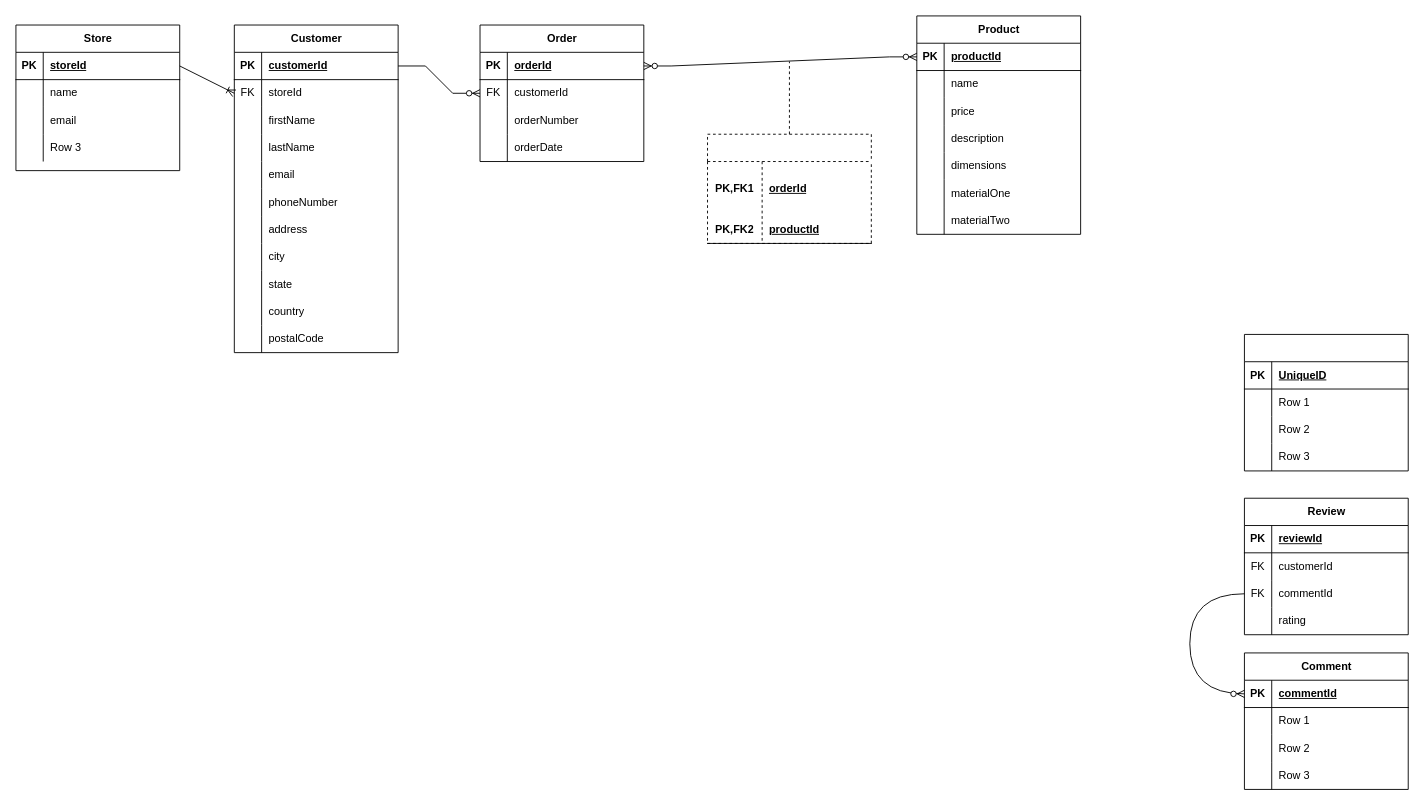
Image size: 1424x805. Some labels were removed from this diagram. Each missing label, with the box of its shape:
Order Count: (1244, 334, 1408, 471)
Order Product: (707, 133, 871, 243)
